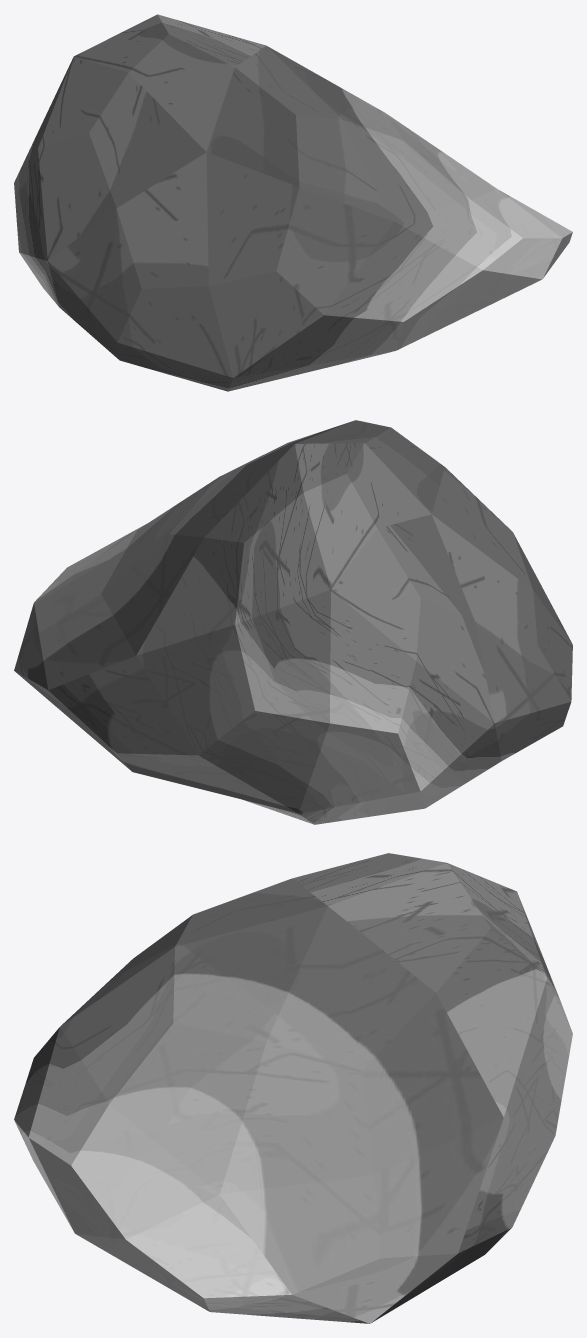
Rendered from Rock 1-3.fbx.
3 renders of one model, top to bottom at view 1: azimuth 30°, elevation 25°; view 2: azimuth 150°, elevation 25°; view 3: azimuth 270°, elevation 25°, orthographic. The views are drawn at different scales.
Parts seen in each view (by area): view 1: Icosphere; view 2: Icosphere; view 3: Icosphere.
Boxes of the visible parts, <box> form: Icosphere: <box>14,14,572,391</box>; Icosphere: <box>14,420,572,824</box>; Icosphere: <box>14,853,572,1323</box>.
Bounding box in the file's own units: 155 × 91.08 × 142.
